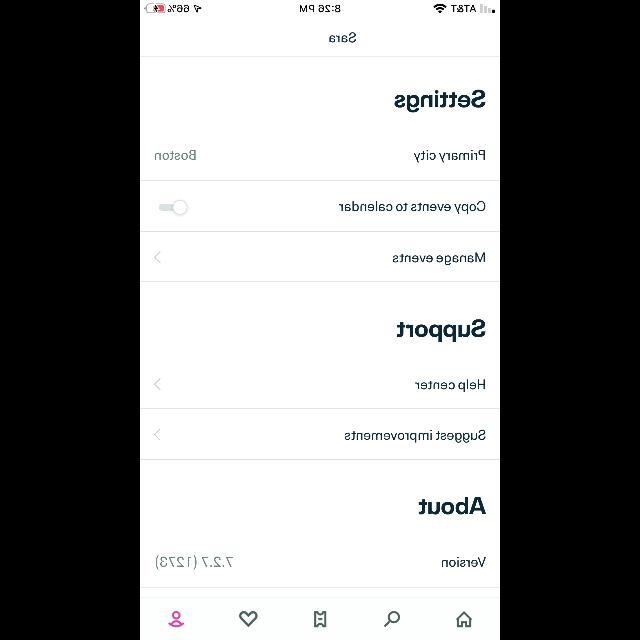icon: (238, 610, 258, 628), (456, 610, 472, 628), (168, 610, 184, 628), (384, 611, 400, 627), (314, 610, 326, 628), (154, 251, 160, 263), (154, 378, 160, 390), (154, 428, 160, 440)
switch: (158, 200, 188, 214)
text: (394, 89, 486, 113), (396, 320, 486, 342), (339, 202, 485, 214), (344, 430, 486, 442), (393, 252, 485, 266), (418, 497, 486, 515), (156, 555, 232, 569), (414, 150, 484, 162), (415, 380, 485, 392), (441, 557, 485, 567), (154, 150, 196, 160), (328, 32, 356, 44)
uppertaskbar: (140, 0, 500, 14)
